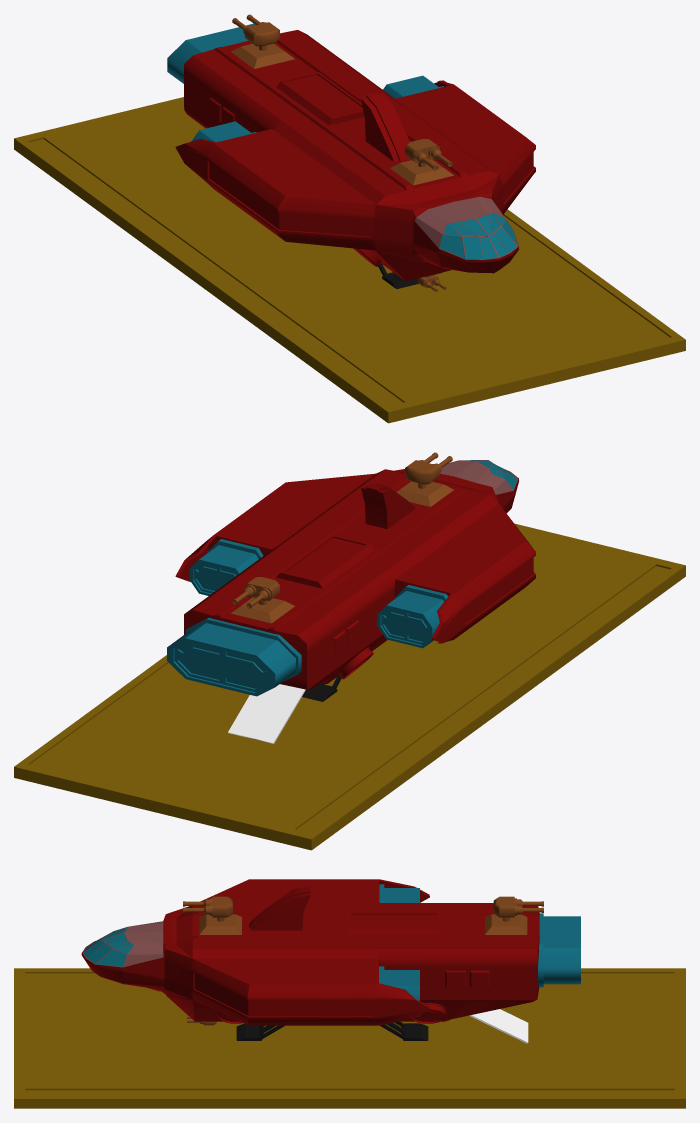
The model's file is SpaceShark Class-01.fbx.
3 renders of one model, top to bottom at view 1: azimuth 30°, elevation 25°; view 2: azimuth 150°, elevation 25°; view 3: azimuth 270°, elevation 25°, orthographic. The views are drawn at different scales.
Parts seen in each view (by area): view 1: pCube202, transform544, polySurface381, polySurface356, pCube196, pCube195, polySurface289, polySurface382, polySurface383; view 2: pCube202, transform544, polySurface289, polySurface383, polySurface330, polySurface382, pCube195, pCube196, polySurface356; view 3: pCube202, transform544, polySurface289, polySurface356, pCube196, pCube195, polySurface381, polySurface330, polySurface382, polySurface383, pCube205, pCube200.
Boxes of the visible parts, x1=… form: pCube202: x1=14, y1=97, x2=685, y2=423; transform544: x1=175, y1=30, x2=535, y2=281; polySurface381: x1=439, y1=213, x2=517, y2=259; polySurface356: x1=415, y1=196, x2=518, y2=259; pCube196: x1=231, y1=14, x2=294, y2=68; pCube195: x1=390, y1=139, x2=453, y2=185; polySurface289: x1=167, y1=23, x2=255, y2=83; polySurface382: x1=383, y1=75, x2=443, y2=98; polySurface383: x1=191, y1=121, x2=256, y2=142; pCube202: x1=14, y1=523, x2=685, y2=850; transform544: x1=175, y1=469, x2=535, y2=690; polySurface289: x1=167, y1=617, x2=301, y2=696; polySurface383: x1=377, y1=585, x2=448, y2=648; polySurface330: x1=228, y1=684, x2=305, y2=743; polySurface382: x1=189, y1=539, x2=263, y2=595; pCube195: x1=396, y1=452, x2=453, y2=506; pCube196: x1=231, y1=577, x2=294, y2=623; polySurface356: x1=440, y1=460, x2=517, y2=494; pCube202: x1=14, y1=968, x2=685, y2=1108; transform544: x1=81, y1=879, x2=539, y2=1025; polySurface289: x1=538, y1=913, x2=580, y2=987; polySurface356: x1=82, y1=921, x2=163, y2=967; pCube196: x1=485, y1=896, x2=543, y2=934; pCube195: x1=183, y1=896, x2=241, y2=934; polySurface381: x1=83, y1=927, x2=133, y2=966; polySurface330: x1=469, y1=1009, x2=528, y2=1043; polySurface382: x1=379, y1=966, x2=419, y2=1016; polySurface383: x1=379, y1=884, x2=419, y2=902; pCube205: x1=405, y1=1023, x2=428, y2=1040; pCube200: x1=236, y1=1023, x2=259, y2=1040.
Size of the model in its own units: 354 by 196 by 770.
